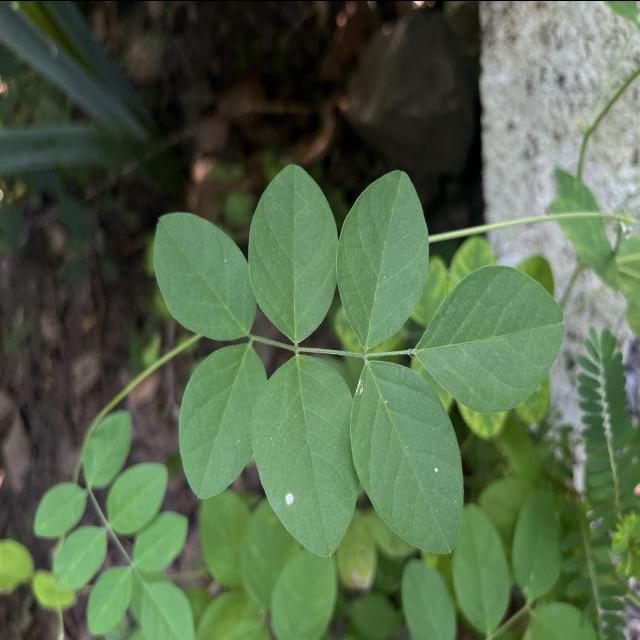Clitoria ternatea: (348, 356, 466, 556), (414, 262, 566, 415), (334, 167, 431, 349), (246, 160, 340, 346), (176, 344, 268, 502), (152, 208, 259, 342)
